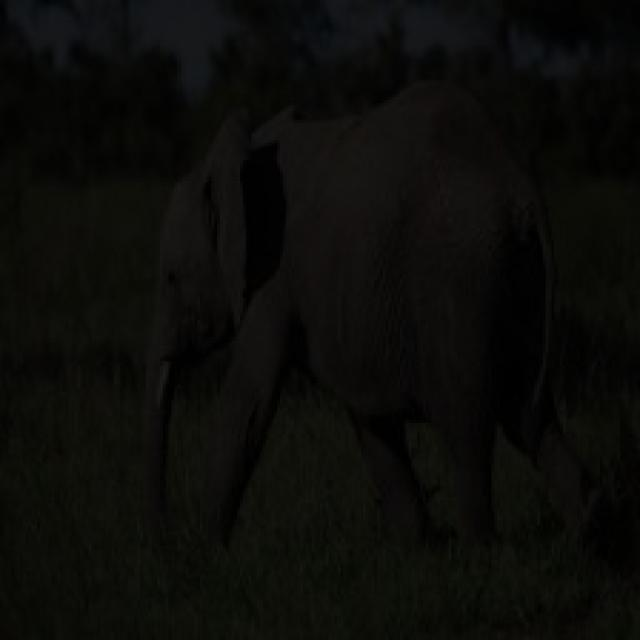animal: (139, 91, 611, 588)
